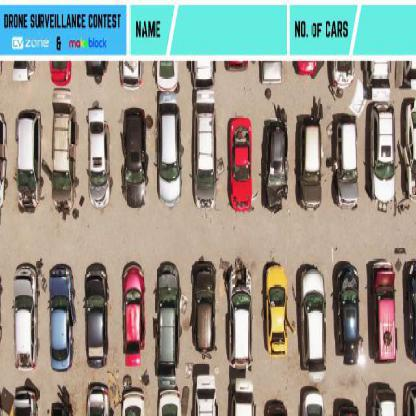car: (156, 91, 184, 208), (155, 261, 183, 373), (299, 267, 326, 383), (52, 90, 76, 218), (48, 265, 76, 371), (194, 89, 218, 211), (121, 109, 149, 210), (13, 263, 39, 370), (16, 110, 42, 214), (83, 265, 109, 369), (263, 120, 291, 216), (335, 264, 361, 366), (89, 109, 114, 213), (370, 265, 396, 364), (228, 263, 252, 369), (372, 101, 396, 205), (123, 261, 146, 363), (229, 116, 253, 213), (193, 260, 217, 353), (337, 116, 360, 212), (298, 116, 321, 211), (265, 264, 288, 356), (194, 373, 218, 415), (87, 383, 111, 415), (120, 63, 142, 91), (156, 64, 176, 92)
